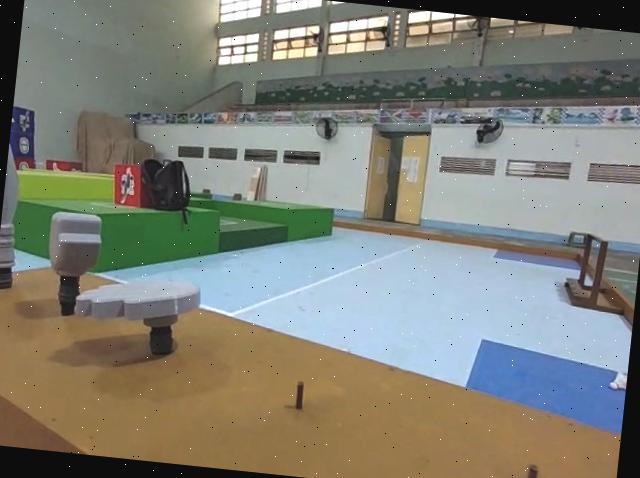Fist: (40, 206, 107, 319)
Hand: (67, 266, 202, 361)
Sph: (0, 113, 31, 291)
